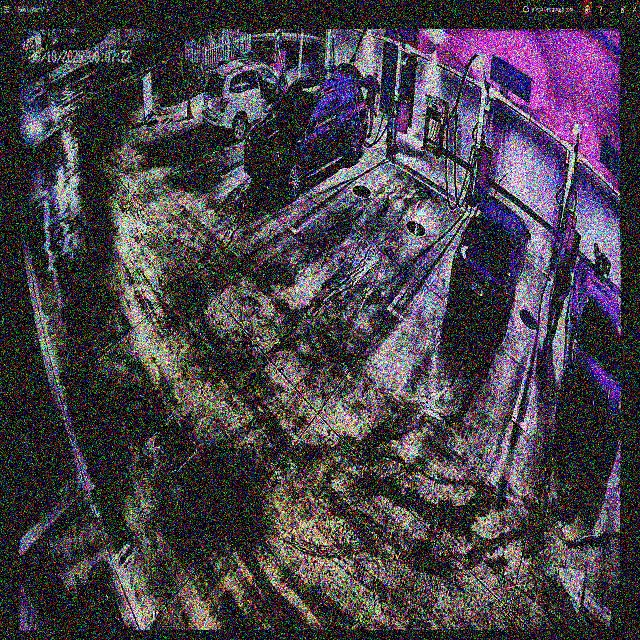Car: (245, 63, 368, 195), (451, 194, 531, 338)
